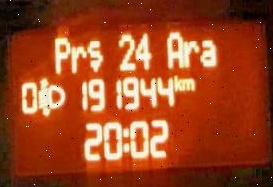0: (128, 117, 148, 159), (102, 119, 121, 159), (18, 78, 37, 116)
1: (79, 78, 87, 112), (115, 75, 122, 113)
2: (150, 117, 169, 159), (83, 119, 102, 160), (118, 29, 135, 70)
4: (136, 29, 154, 68), (138, 71, 156, 108), (156, 73, 173, 108)
9: (88, 77, 104, 109), (123, 75, 138, 109)
X: (166, 29, 183, 67), (54, 34, 69, 74), (198, 36, 216, 67), (87, 40, 102, 73), (69, 44, 85, 73), (183, 37, 198, 65), (181, 76, 194, 91), (122, 125, 128, 154), (174, 73, 181, 91)
